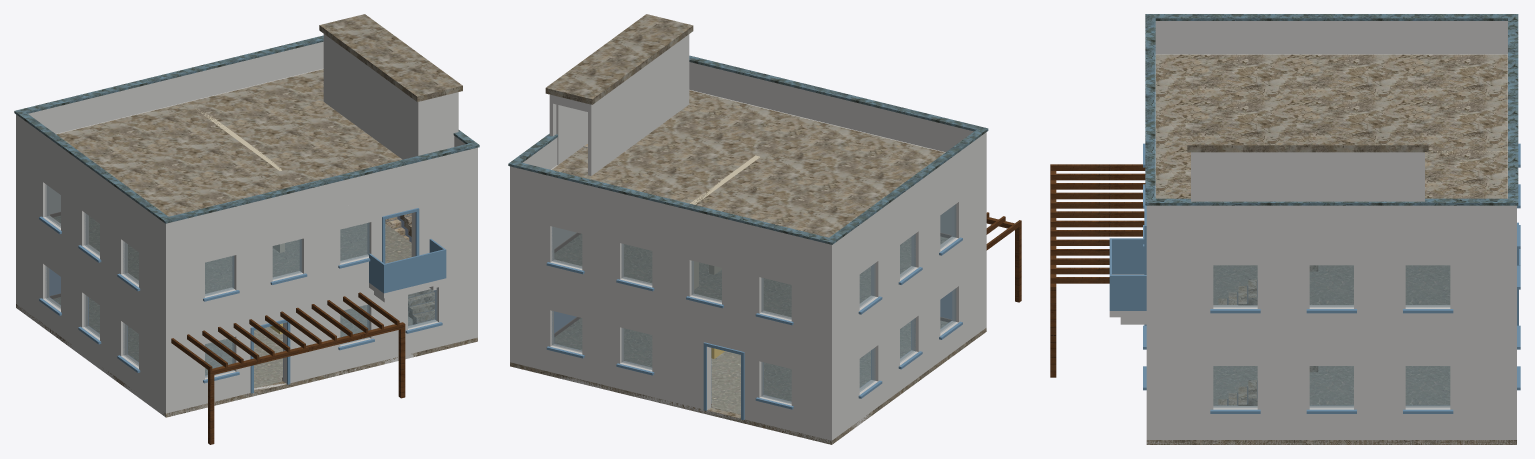
File: bay-villa-white.coast-v1.lod0.glb
The picture shows the model from 3 angles, left to right: view 1: azimuth 30°, elevation 25°; view 2: azimuth 150°, elevation 25°; view 3: azimuth 270°, elevation 25°; orthographic projection. The views are drawn at different scales.
Visible parts, largest first — view 1: bay-villa-white; view 2: bay-villa-white; view 3: bay-villa-white.
Boxes of the visible parts, box(x1,y1,x2,y2) form: bay-villa-white: box(14, 14, 479, 444); bay-villa-white: box(508, 14, 1021, 444); bay-villa-white: box(1050, 14, 1520, 444).
Bounding box in the file's own units: 12.2 × 8.95 × 12.7.
Materials: 5 (3 with a texture image).
